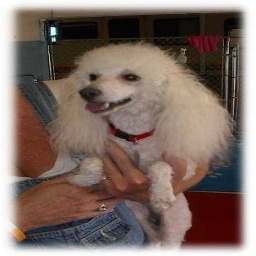dog: (57, 37, 233, 222)
